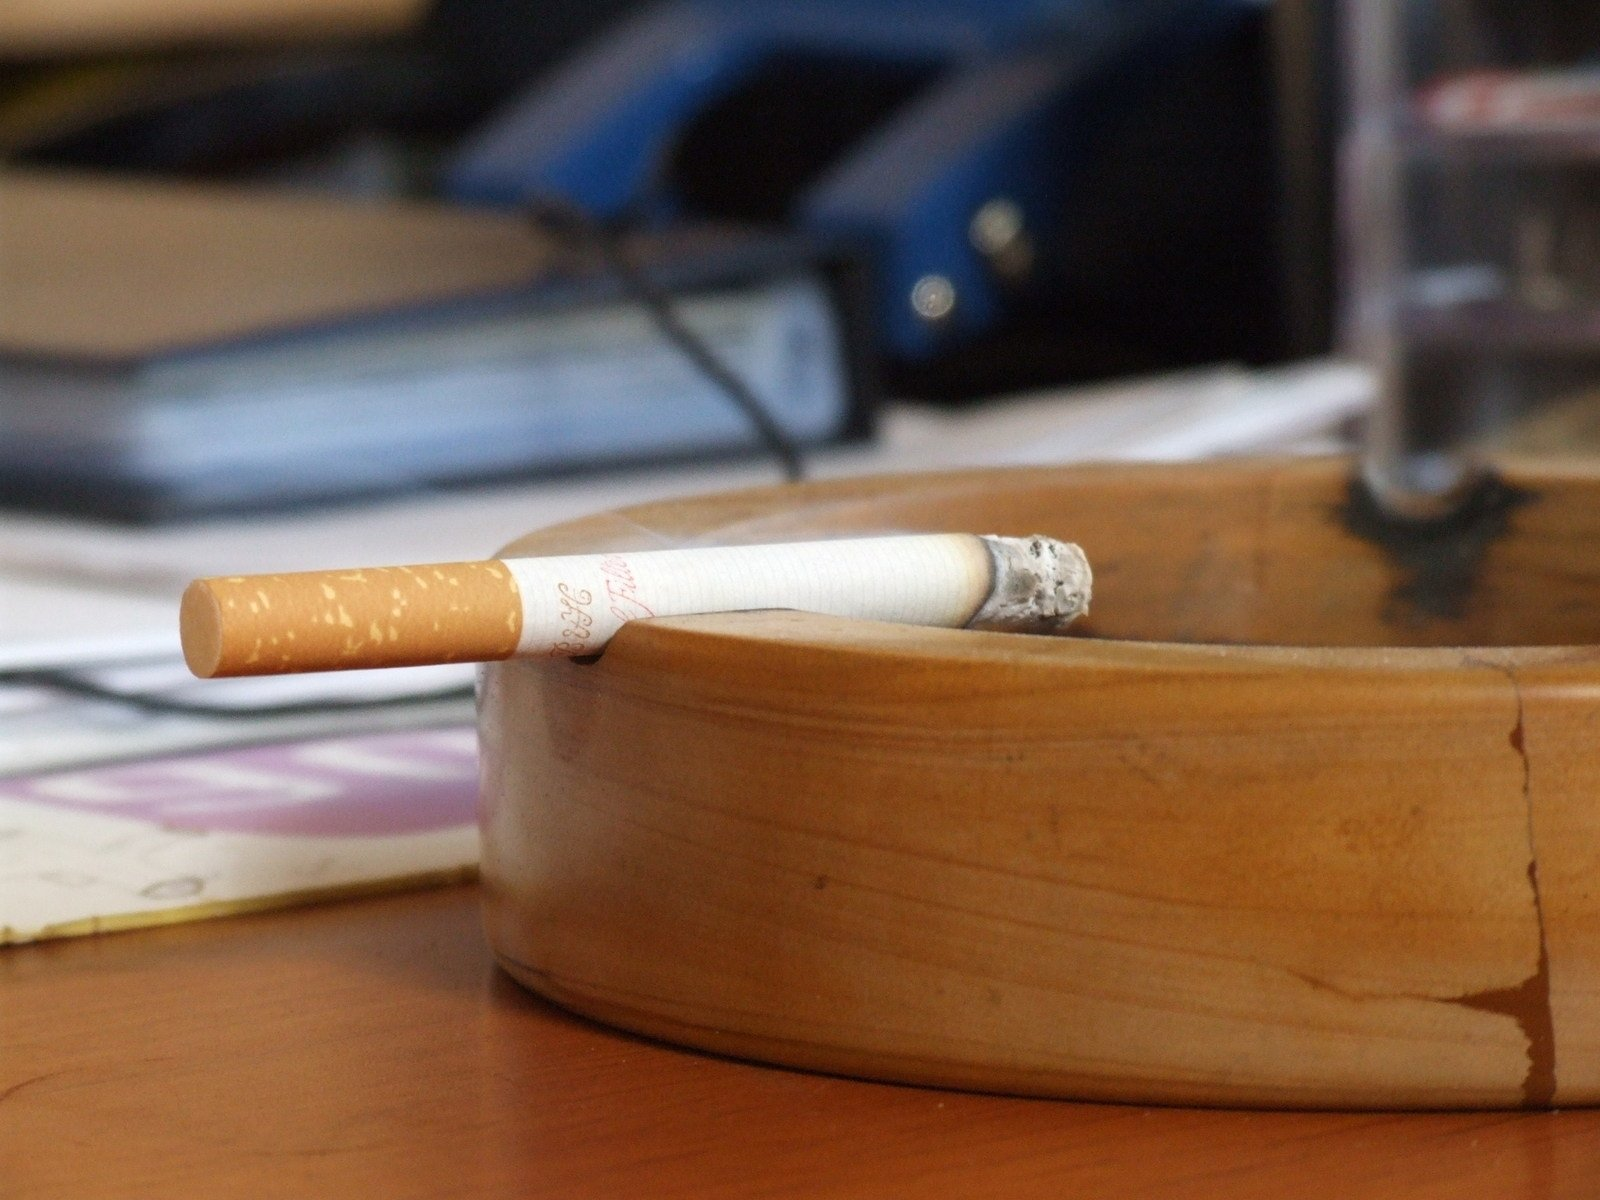cigarette: (174, 527, 1099, 684)
